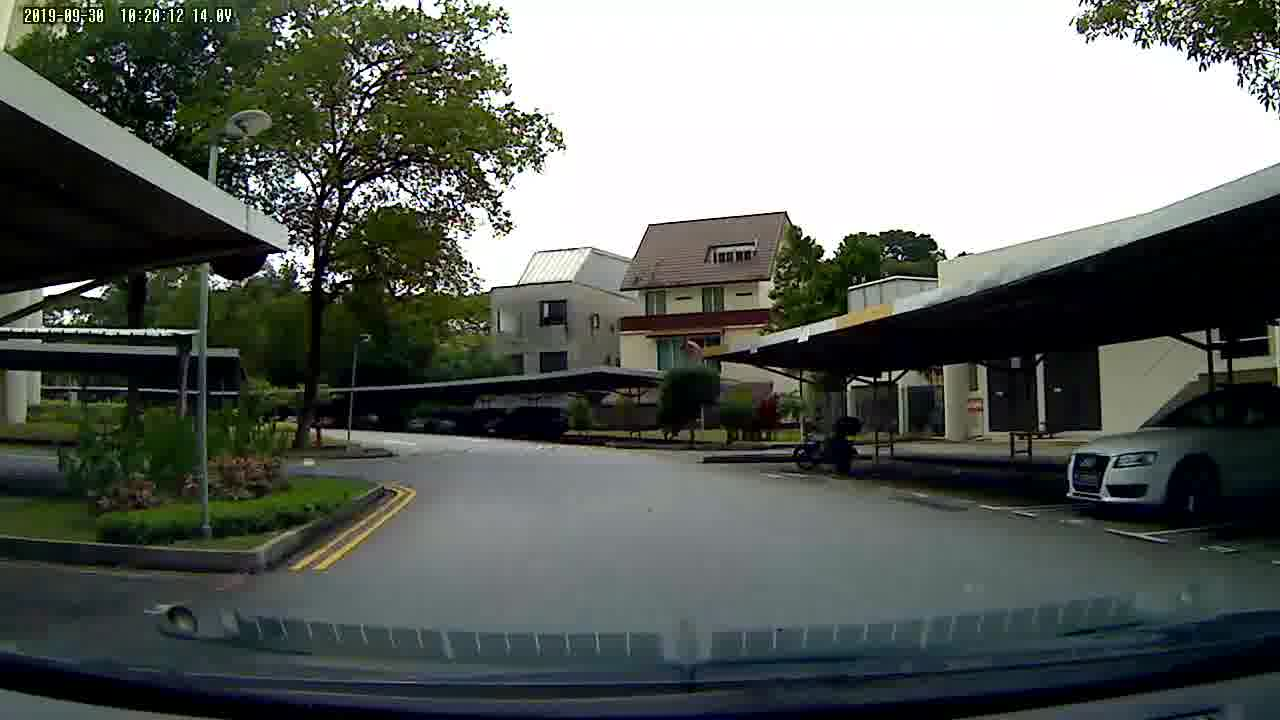car: (1059, 382, 1280, 527)
